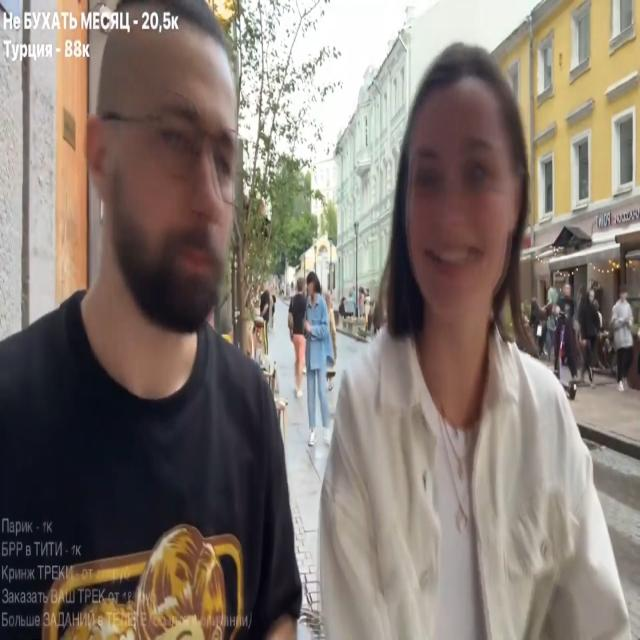Person: (302, 38, 623, 629), (0, 14, 305, 624), (291, 272, 338, 419), (610, 290, 637, 391), (576, 287, 602, 389)
